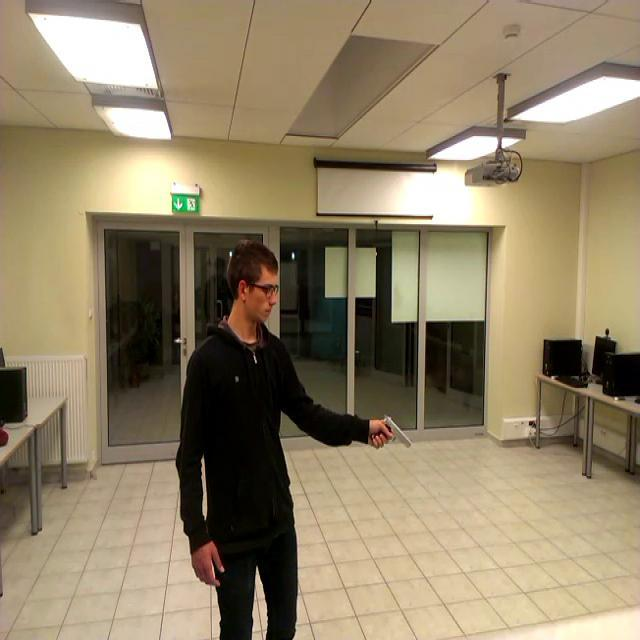Gun: (371, 414, 413, 447)
